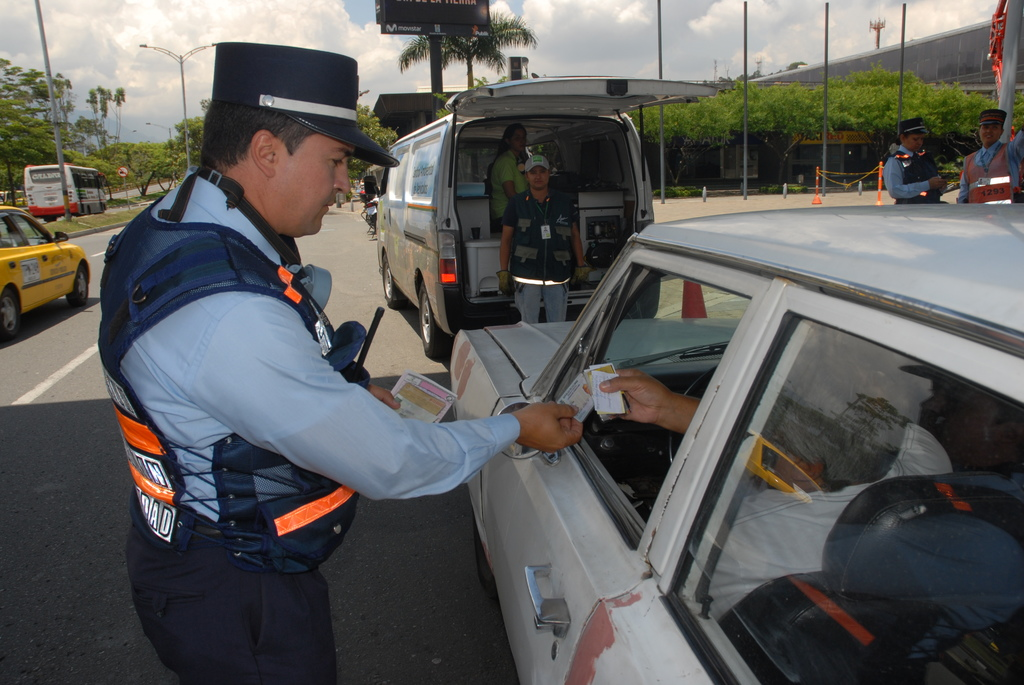Car: (320, 96, 1024, 685), (0, 204, 88, 342)
